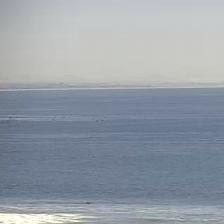surfer: (83, 201, 92, 205)
